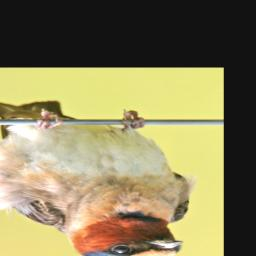Swallow: (0, 99, 198, 256)
